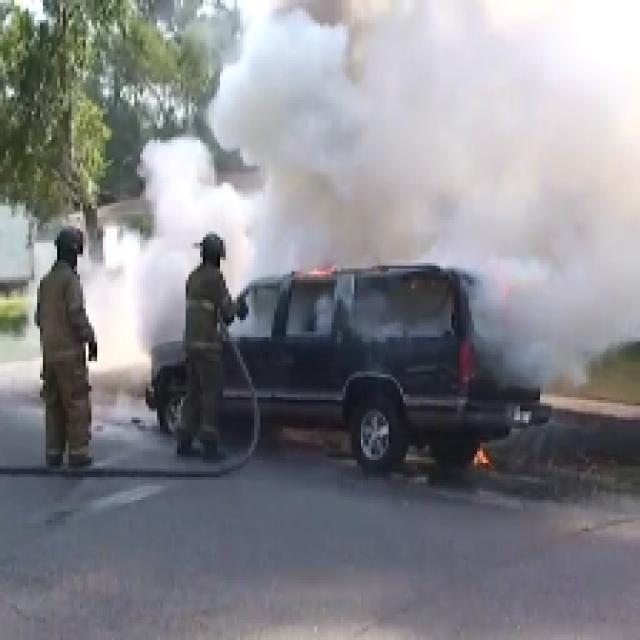Smoke: (238, 24, 638, 268), (130, 148, 226, 333), (474, 272, 640, 377)
